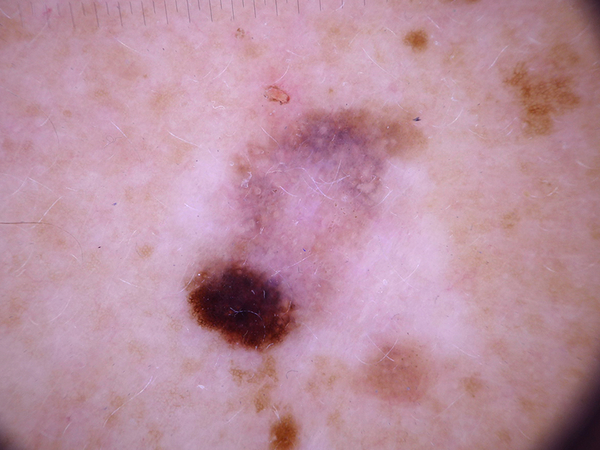Detected Lesion: (176, 248, 310, 355)
